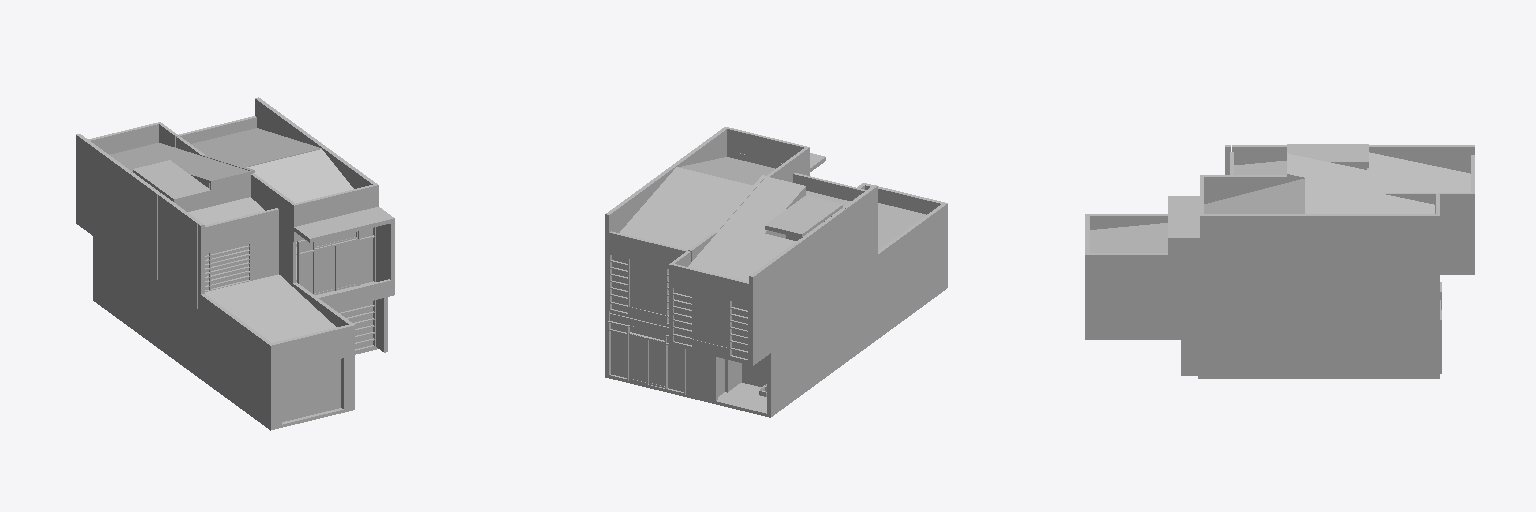
File: 3BHK Villa and 3d design.obj
3 renders of one model, left to right at view 1: azimuth 30°, elevation 25°; view 2: azimuth 150°, elevation 25°; view 3: azimuth 270°, elevation 25°, orthographic.
Parts seen in each view (by area): view 1: obj1; view 2: obj1; view 3: obj1.
Boxes of the visible parts, x1,y1,x2,y2 form: obj1: [76, 97, 394, 430]; obj1: [605, 127, 947, 417]; obj1: [1085, 144, 1474, 378].
Size of the model in its own units: 8.2 by 7.87 by 16.71.